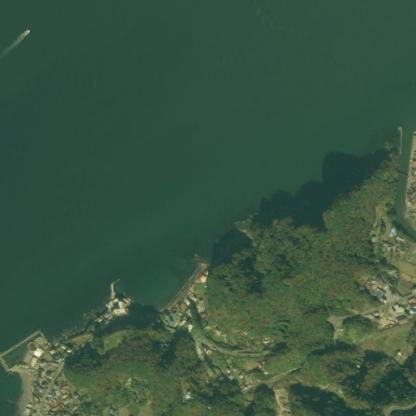ship: (18, 22, 36, 41)
